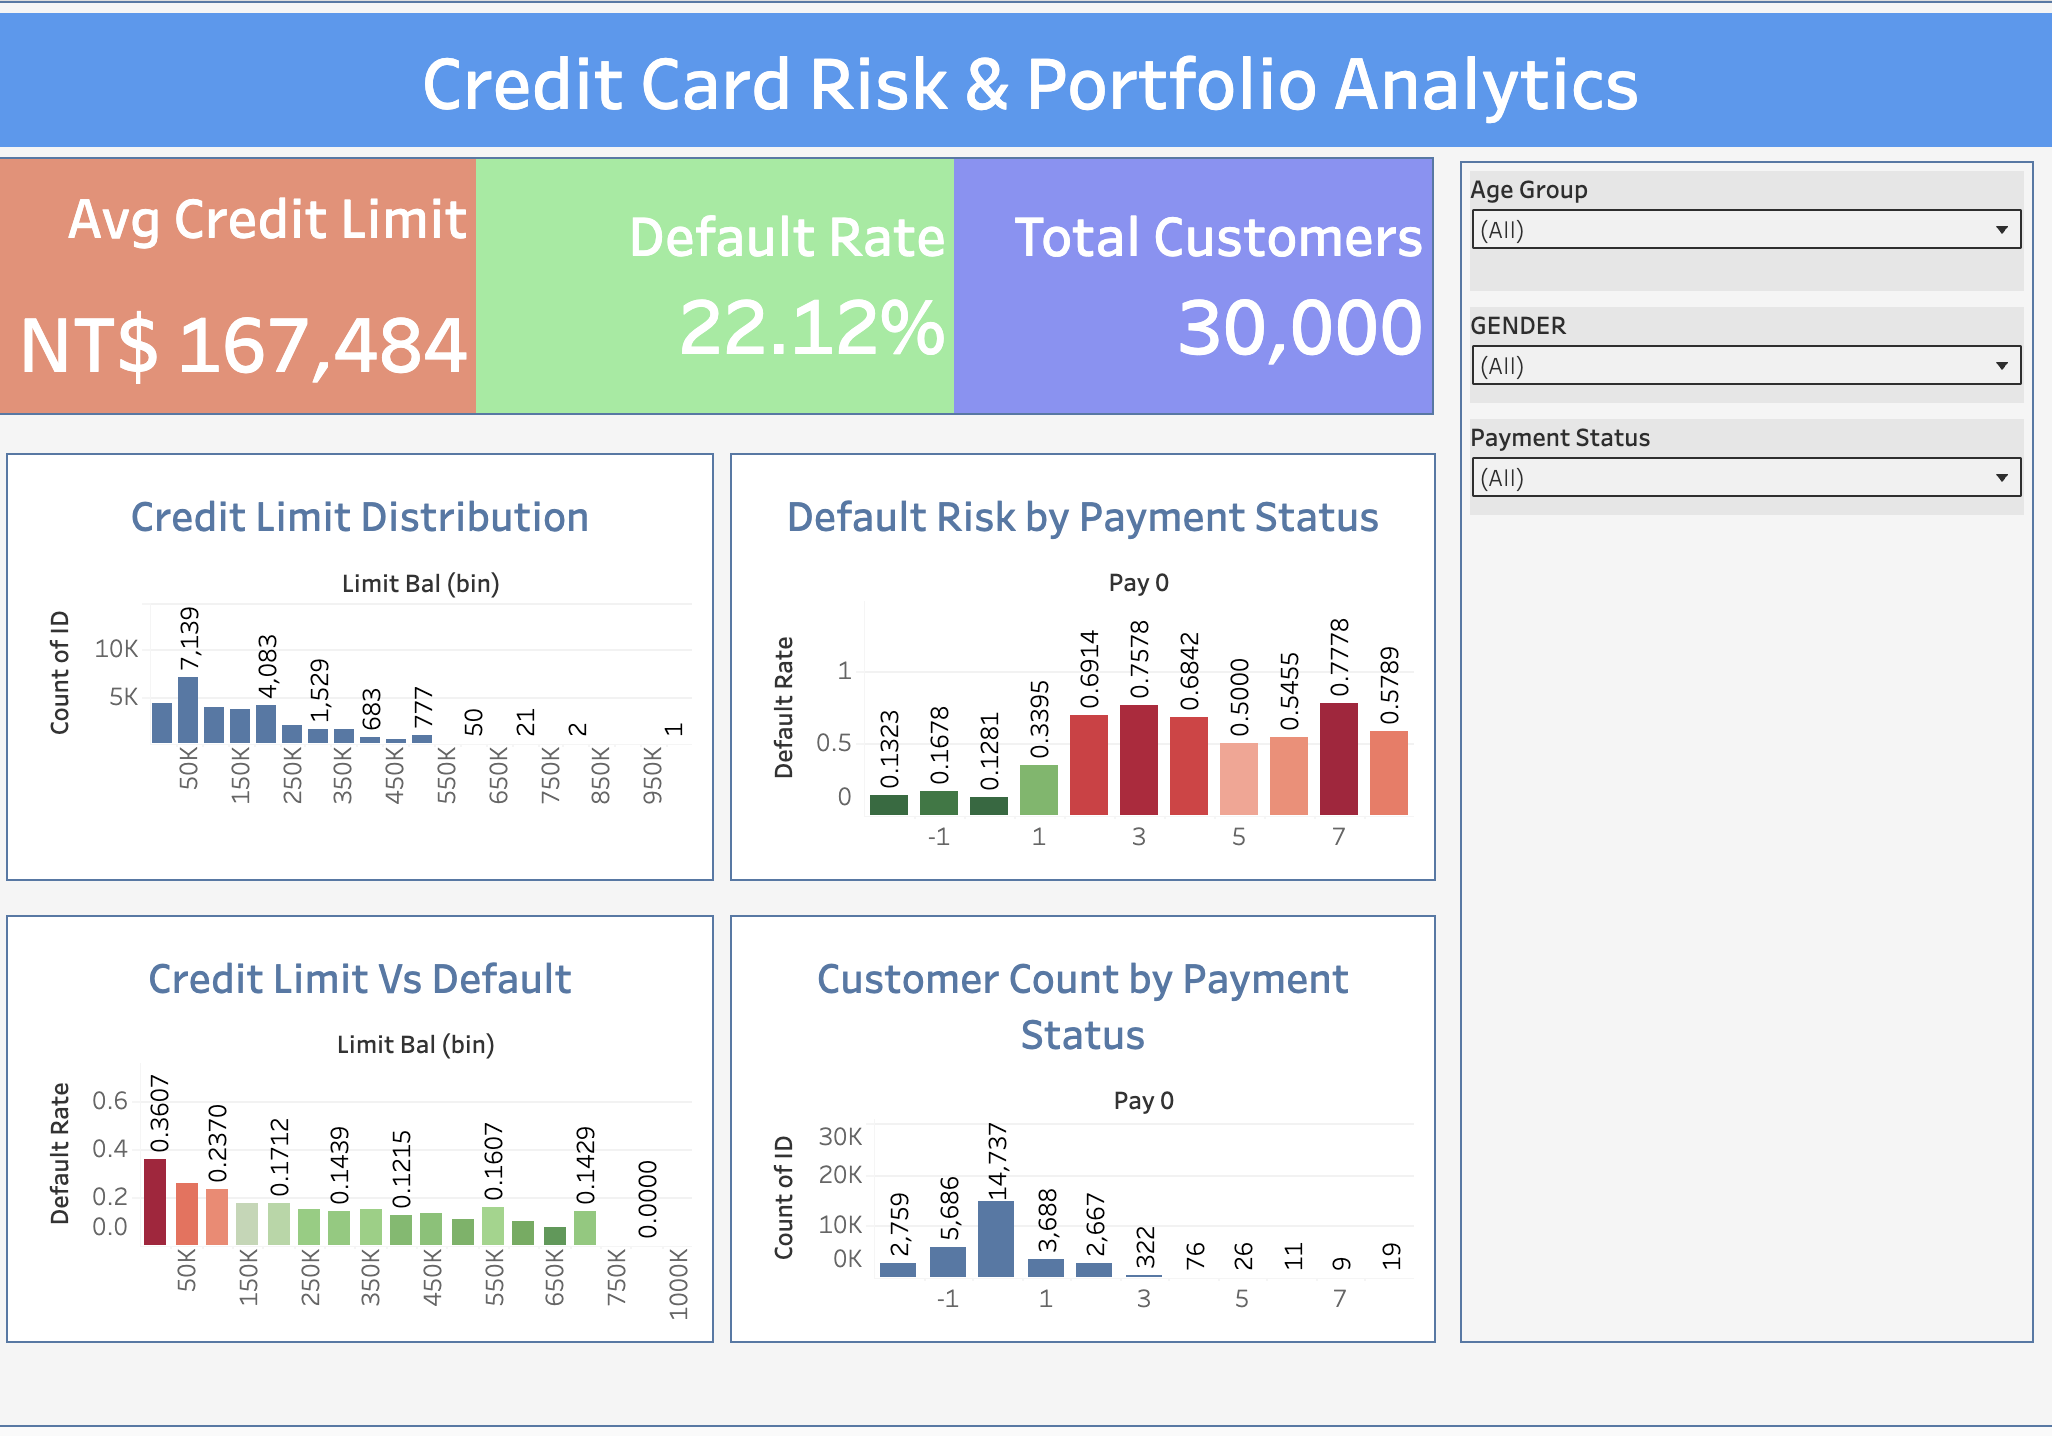

Layout of this report page (visuals, bound fields, positions):
{"tool":"tableau","page":{"name":"Dashboard 1","canvas":[1000,1000],"units":"permille","ordinal":0},"visuals":[{"type":"text","box":[0,8.4,999.1,93.9]},{"type":"worksheet","title":"AVG Credit Limit","mark":"Text","box":[2.2,110.4,232.1,177.6]},{"type":"worksheet","title":"Default Rate","mark":"Automatic","box":[234.3,110.4,232.1,177.6]},{"type":"worksheet","title":"Total Customers","mark":"Automatic","box":[466.4,110.4,230.9,177.6]},{"type":"filter","title":"Credit Limit Distribution","param":"[federated.0jxx0kp01d21ip16l5d8c17xlhj2].[none:Calculation_0304628781424641:nk]","box":[712.7,113.5,276.2,108.8]},{"type":"filter","title":"Credit Limit Distribution","param":"[federated.0jxx0kp01d21ip16l5d8c17xlhj2].[none:SEX:ok]","box":[712.7,222.3,276.2,83.2]},{"type":"filter","title":"Credit Limit Distribution","param":"[federated.0jxx0kp01d21ip16l5d8c17xlhj2].[none:Calculation_0304628790349826:nk]","box":[712.7,305.5,276.2,83.2]},{"type":"worksheet","title":"Credit Limit Distribution","mark":"Automatic","rows":["ID"],"cols":["Limit Bal (bin)"],"box":[2.2,312,350.9,312]},{"type":"worksheet","title":"Default Risk by Payment Status","mark":"Automatic","rows":["Calculation_3480482728742912"],"cols":["PAY_0"],"box":[353.1,312,349.8,312]},{"type":"worksheet","title":"Credit Limit Vs Default","mark":"Automatic","rows":["Calculation_3480482728742912"],"cols":["Limit Bal (bin)"],"box":[2.2,635.2,350.9,312]},{"type":"worksheet","title":"Customer Count by Payment Status","mark":"Automatic","rows":["ID"],"cols":["PAY_0"],"box":[353.1,635.2,349.8,312]}]}

Visuals, with their boxes on the dashboard's canvas, which has no fixed pixel size, in thousandths of its width and height (x1, y1, x2, y2). These are canvas units, not pixel positions in the 2052x1436 screenshot, which may show the page scaled, cropped or inside an application window:
text: (left=0, top=8, right=999, bottom=102)
"AVG Credit Limit" worksheet (Text marks): (left=2, top=110, right=234, bottom=288)
"Default Rate" worksheet: (left=234, top=110, right=466, bottom=288)
"Total Customers" worksheet: (left=466, top=110, right=697, bottom=288)
"Credit Limit Distribution" filter: (left=713, top=114, right=989, bottom=222)
"Credit Limit Distribution" filter: (left=713, top=222, right=989, bottom=306)
"Credit Limit Distribution" filter: (left=713, top=306, right=989, bottom=389)
"Credit Limit Distribution" worksheet: (left=2, top=312, right=353, bottom=624)
"Default Risk by Payment Status" worksheet: (left=353, top=312, right=703, bottom=624)
"Credit Limit Vs Default" worksheet: (left=2, top=635, right=353, bottom=947)
"Customer Count by Payment Status" worksheet: (left=353, top=635, right=703, bottom=947)
